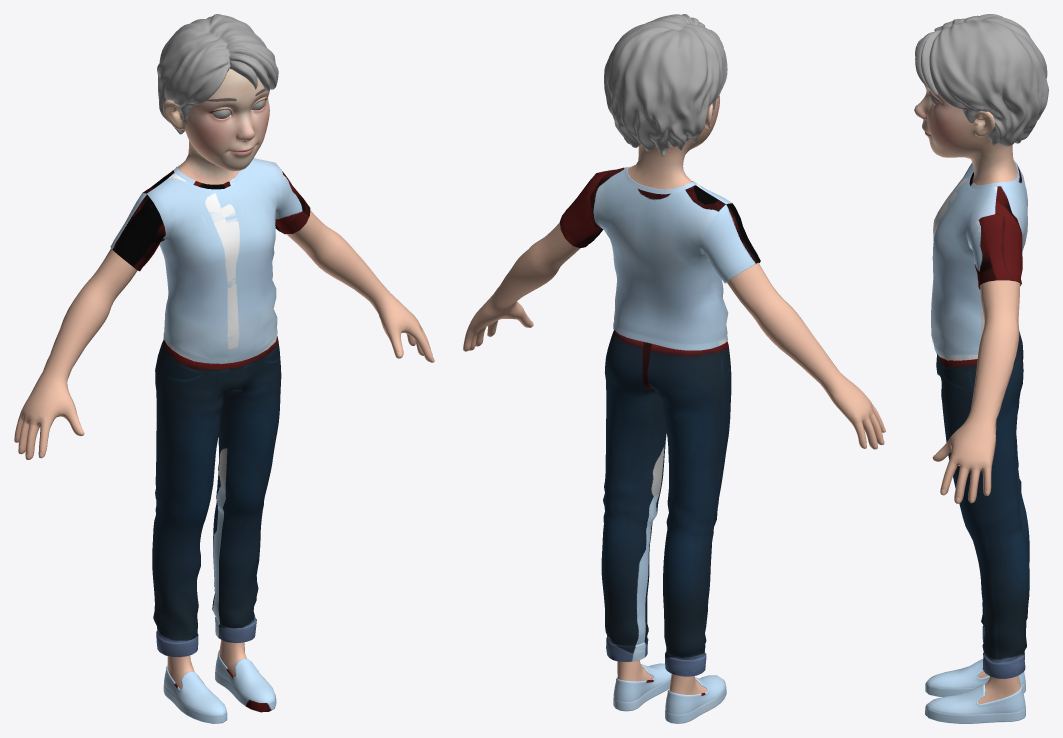
File: Boy_v1.fbx
3 renders of one model, left to right at view 1: azimuth 30°, elevation 25°; view 2: azimuth 150°, elevation 25°; view 3: azimuth 270°, elevation 25°, orthographic.
Parts seen in each view (by area): view 1: trousers, shirt, body, hair_H, shoes; view 2: trousers, shirt, body, hair_H, shoes; view 3: trousers, body, shirt, hair_H, shoes.
Boxes of the visible parts, box(x1,y1,x2,y2) form: trousers: box(152, 336, 281, 657); shirt: box(110, 158, 310, 363); body: box(14, 69, 434, 689); hair_H: box(157, 14, 278, 134); shoes: box(163, 650, 276, 723); trousers: box(601, 330, 731, 676); shirt: box(559, 166, 760, 350); body: box(463, 95, 885, 709); hair_H: box(604, 14, 727, 156); shoes: box(613, 663, 726, 723); trousers: box(936, 331, 1029, 678); body: box(914, 85, 1020, 704); shirt: box(931, 160, 1027, 360); hair_H: box(915, 14, 1048, 146); shoes: box(925, 658, 1025, 723).
Bounding box in the file's own units: 109 × 173 × 30.92.
